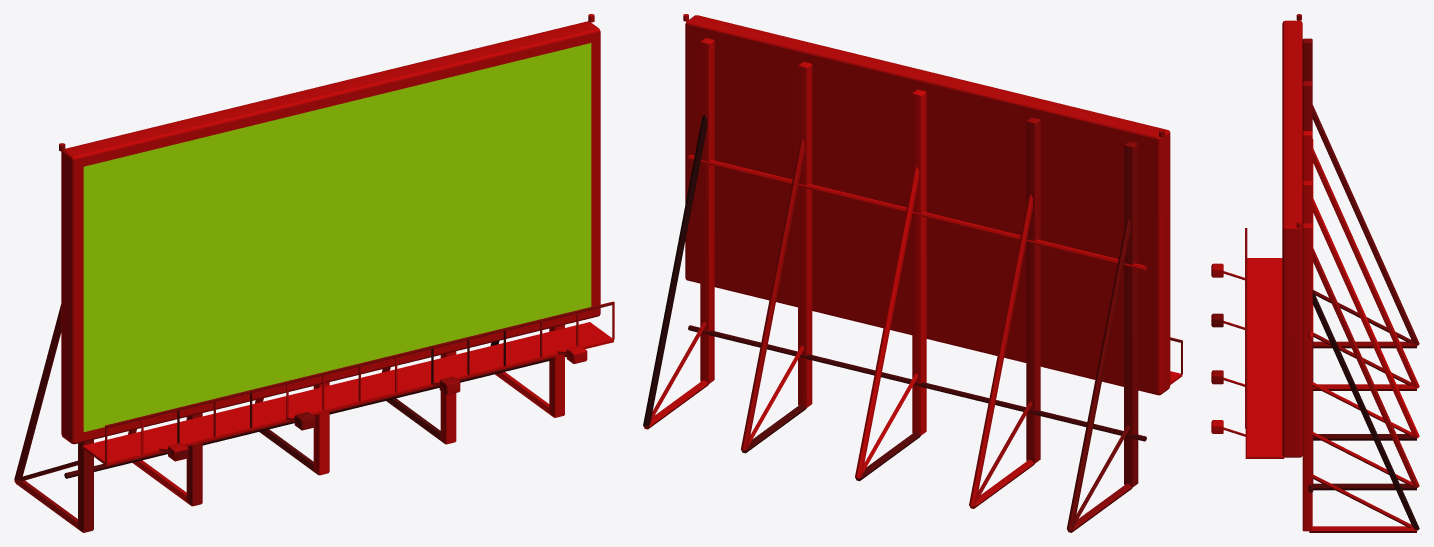
File: billboard_roof.glb
3 renders of one model, left to right at view 1: azimuth 30°, elevation 25°; view 2: azimuth 150°, elevation 25°; view 3: azimuth 270°, elevation 25°, orthographic. The views are drawn at different scales.
Parts seen in each view (by area): view 1: billboard_roof; view 2: billboard_roof; view 3: billboard_roof.
Boxes of the visible parts, left/top/right/bottom form: billboard_roof: left=14, top=14, right=614, bottom=532; billboard_roof: left=643, top=14, right=1182, bottom=532; billboard_roof: left=1211, top=14, right=1419, bottom=532.
Size of the model in its own units: 14.76 by 10.54 by 6.2.
